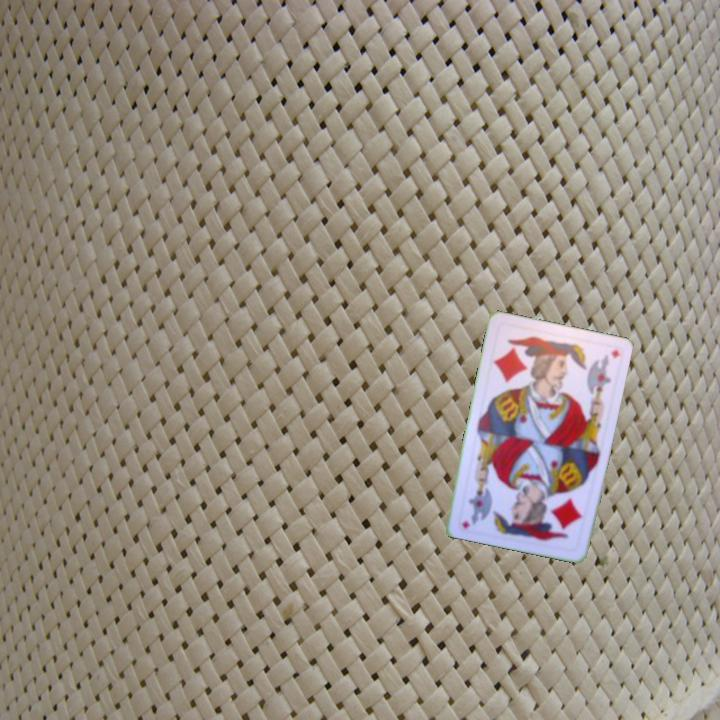d_j.png: (514, 484, 591, 553), (486, 321, 563, 390)
